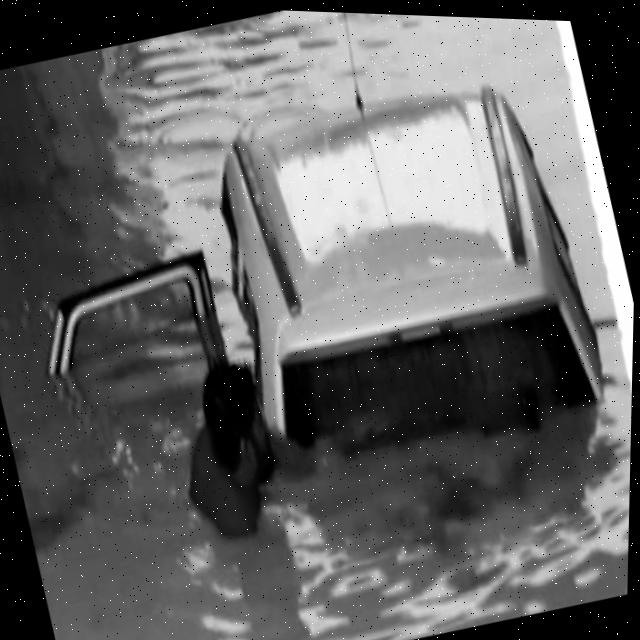civilian: (146, 351, 308, 578)
